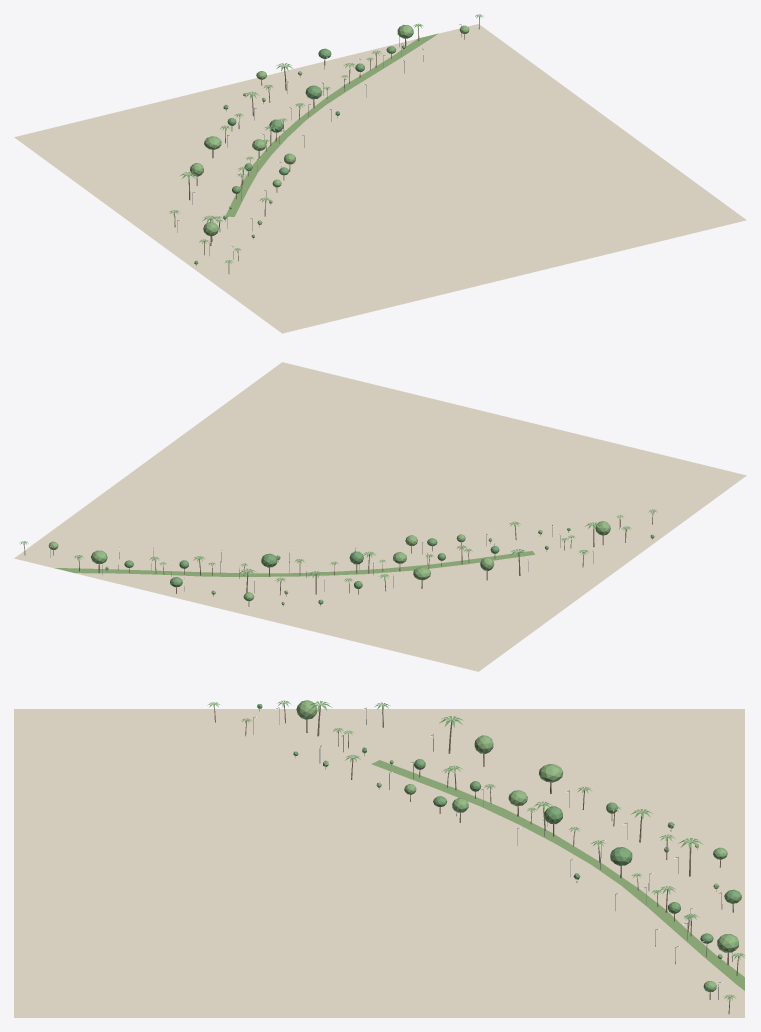
The model's file is nature_0_3.glb.
3 renders of one model, top to bottom at view 1: azimuth 30°, elevation 25°; view 2: azimuth 150°, elevation 25°; view 3: azimuth 270°, elevation 25°, orthographic. The views are drawn at different scales.
Parts seen in each view (by area): view 1: ground, grass, foliage_b, palm_leaf, foliage_a, trunk; view 2: ground, grass, foliage_b, palm_leaf, foliage_a, trunk; view 3: ground, grass, foliage_b, foliage_a, palm_leaf, trunk, lamp_pole.
Part boxes in pixels (x1,y1,x2,y2): ground: [14, 24, 746, 333]; grass: [226, 33, 438, 216]; foliage_b: [190, 24, 469, 236]; palm_leaf: [170, 14, 483, 264]; foliage_a: [194, 46, 396, 264]; trunk: [174, 17, 479, 273]; ground: [14, 362, 746, 671]; grass: [54, 551, 534, 576]; foliage_b: [48, 521, 610, 604]; palm_leaf: [20, 509, 657, 582]; foliage_a: [124, 528, 654, 604]; trunk: [24, 511, 653, 606]; ground: [14, 709, 744, 1017]; grass: [371, 760, 744, 990]; foliage_b: [296, 700, 738, 992]; foliage_a: [257, 704, 741, 943]; palm_leaf: [207, 700, 745, 1000]; trunk: [214, 703, 738, 1014]; lamp_pole: [253, 707, 732, 999].
Size of the model in its own units: 250 by 13.11 by 251.
